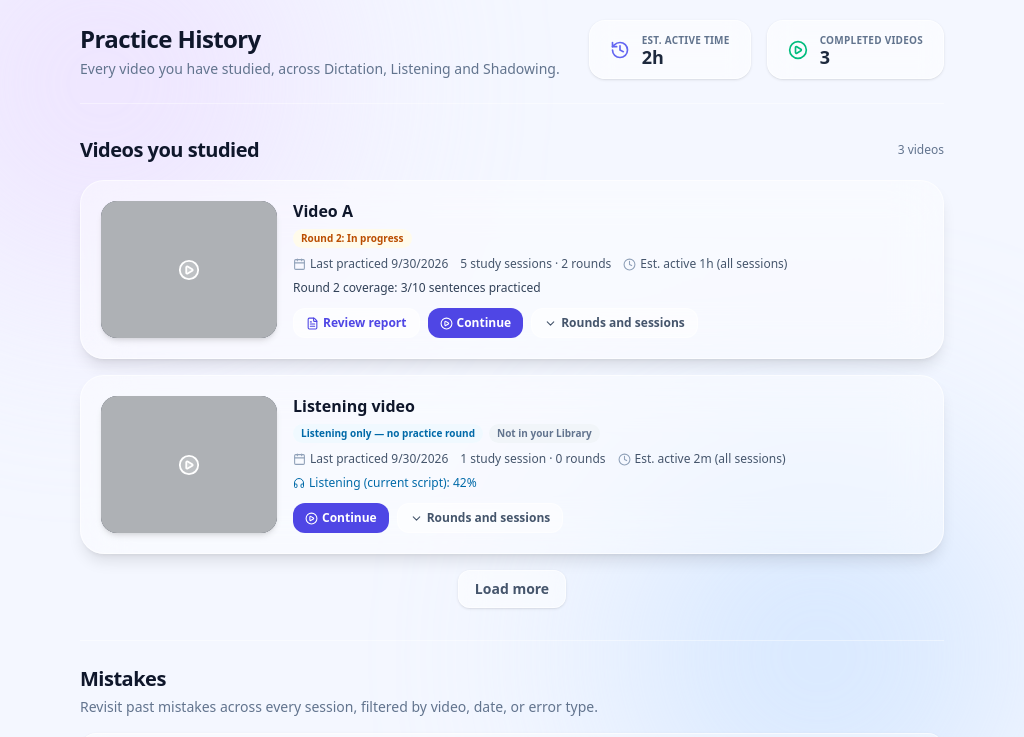
expanding shows the selected round explicitly with its own report; choosing an older round loads THAT round's report
This screenshot has width=1024, height=737.
Click the button "Rounds and sessions" in the row of "Review report" at (614,323), box [531, 308, 698, 338]
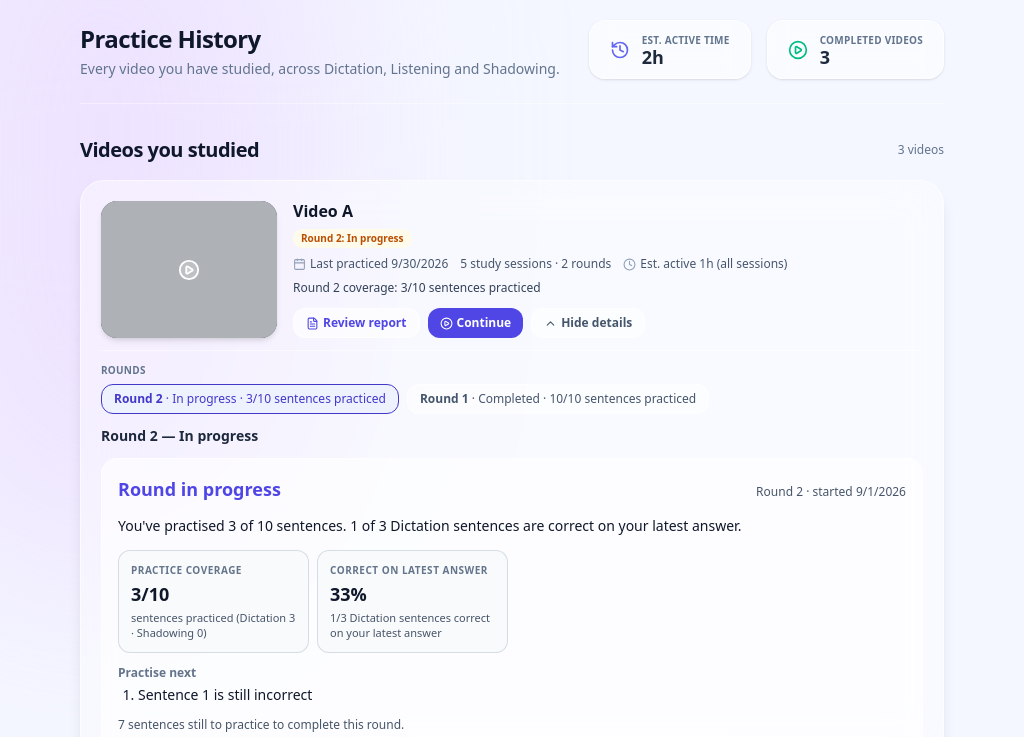
Now the text with test id "history-selected-round" reads "Round 2 — In progress", box [101, 426, 258, 445]
Click the button "Round 1 · Completed · 10/10 sentences practiced" at (558,399), box [407, 384, 709, 414]
(page scrolled)
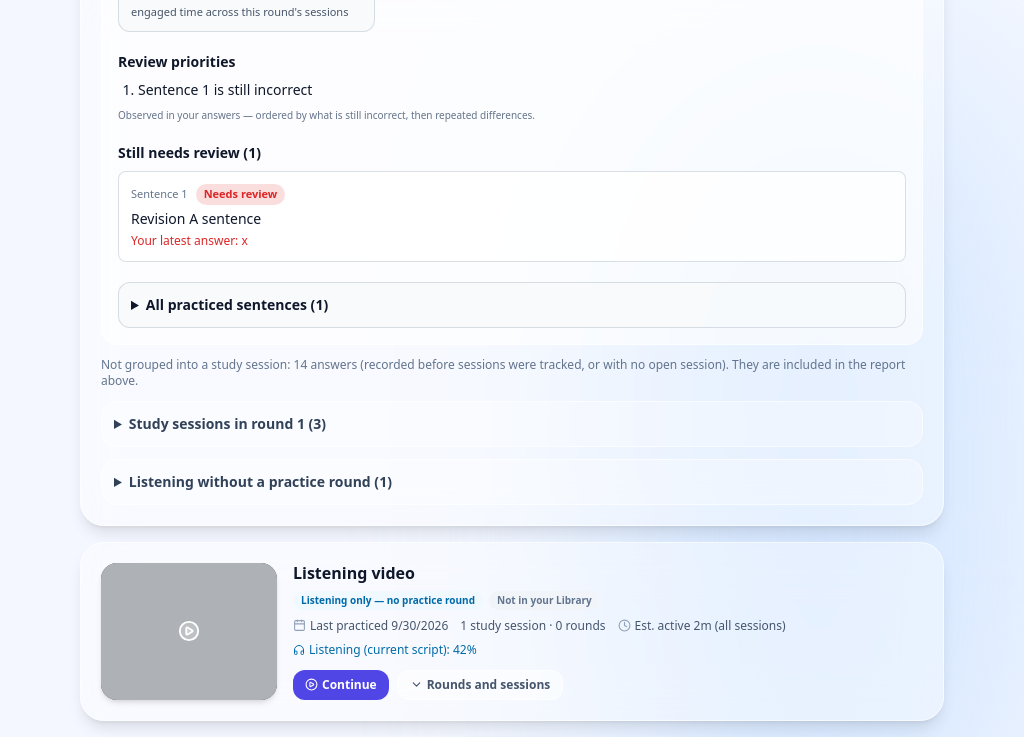
Now the text with test id "history-unattributed" shows "Not grouped into a study session: 14 answers", box [101, 357, 923, 389]
